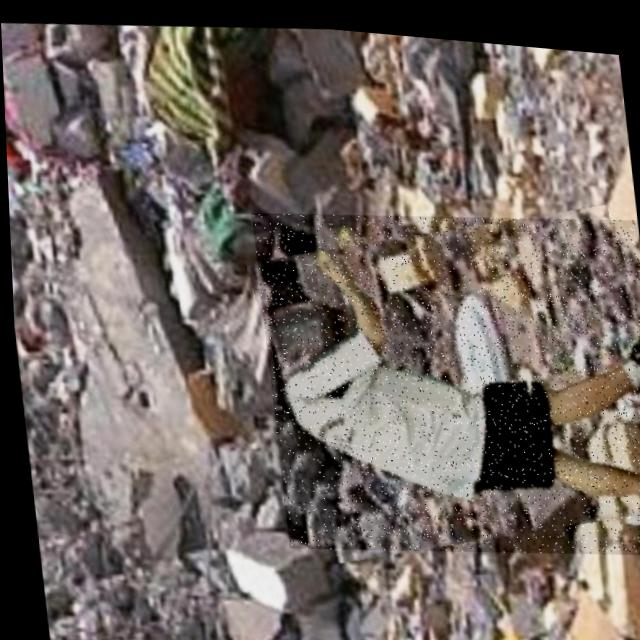Person in Rubble: (249, 180, 640, 568)
